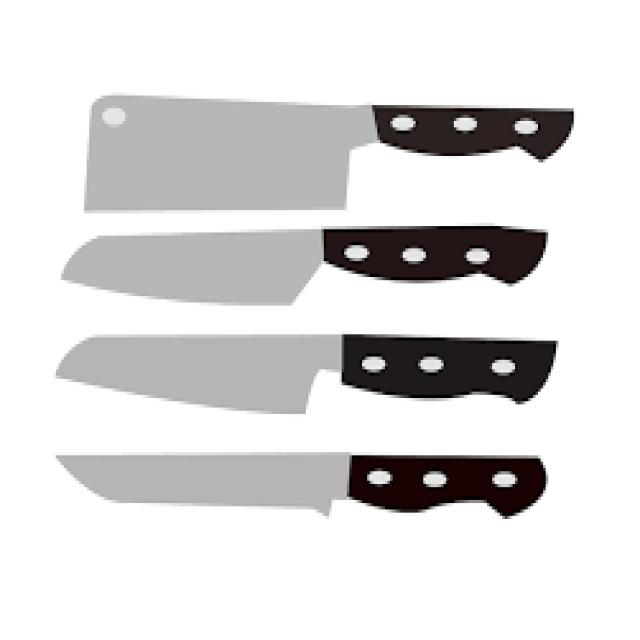Knife: (81, 92, 574, 210), (53, 331, 556, 414), (59, 223, 548, 306), (53, 449, 546, 516)
